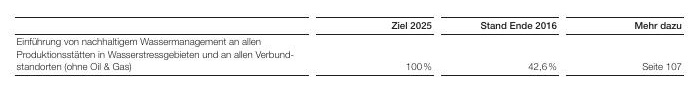table: (0, 0, 699, 93)
